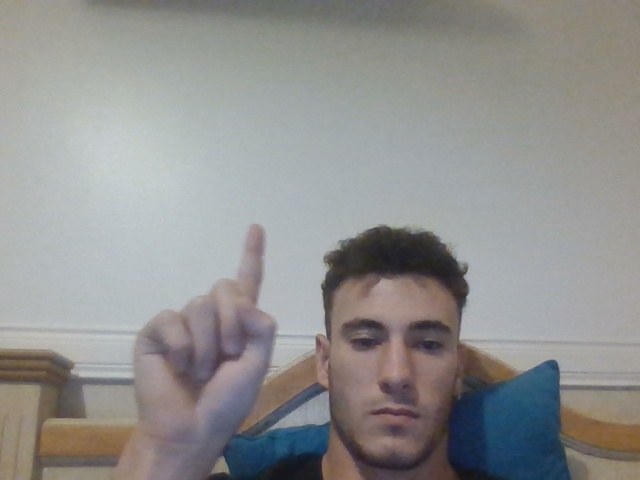Up: (133, 224, 279, 440)
